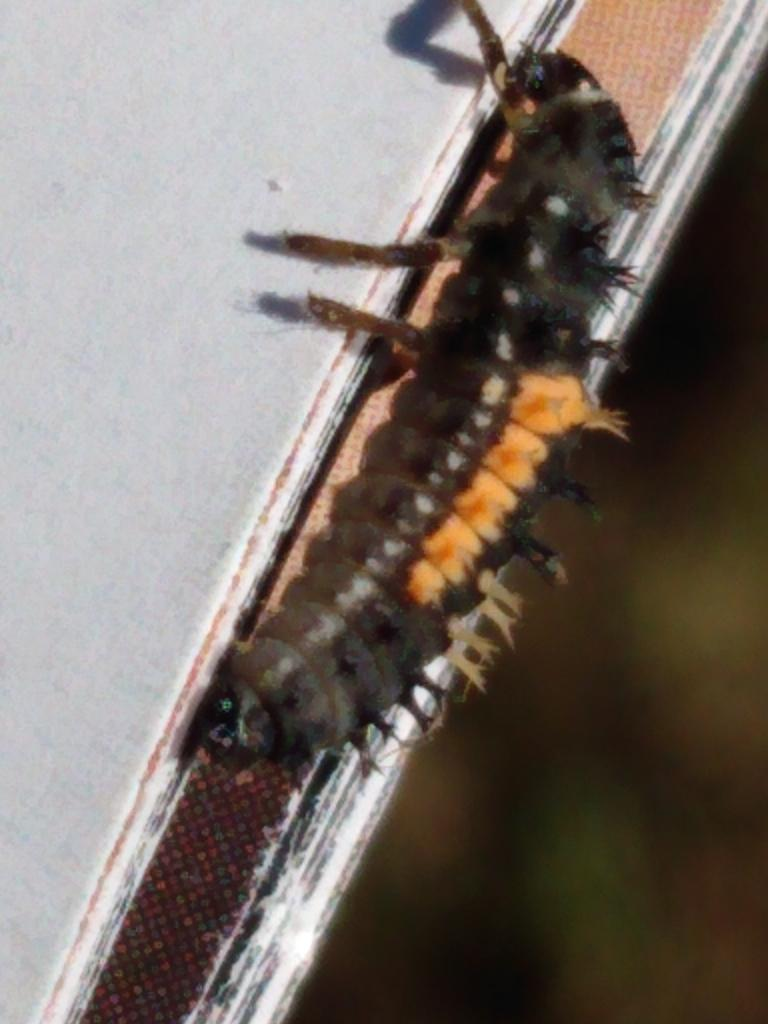ladybug: (199, 1, 666, 796)
